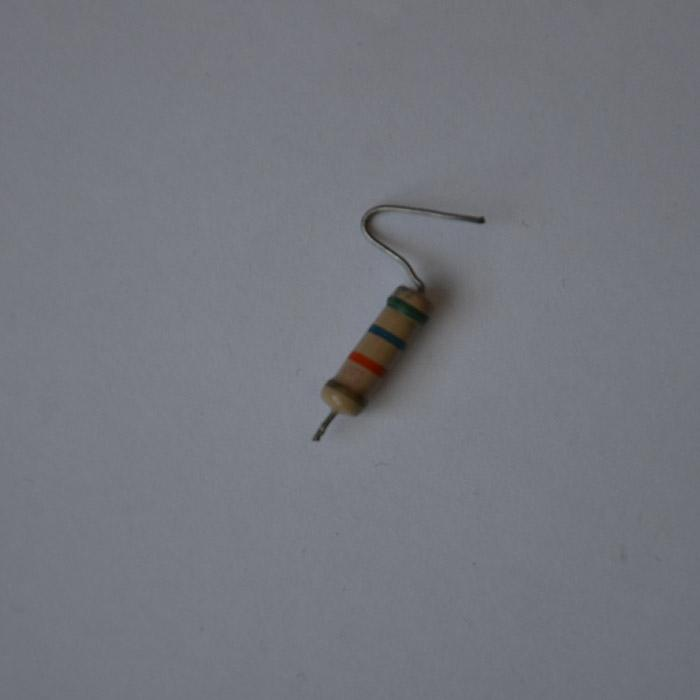resistor: (321, 283, 432, 419)
